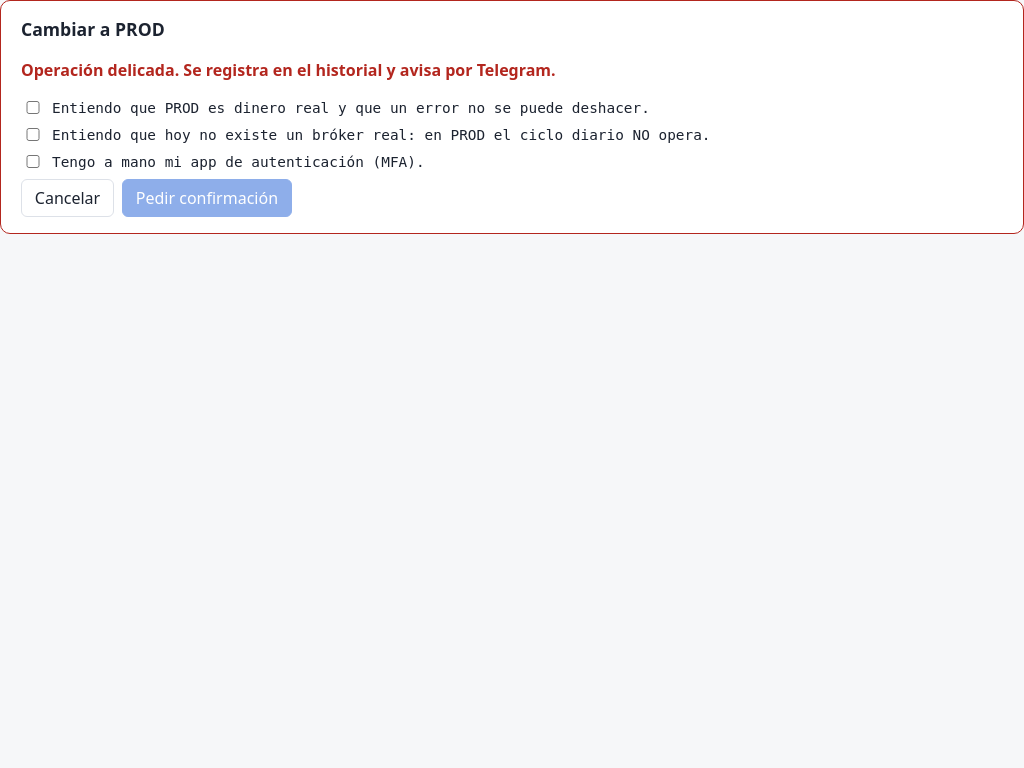
Test: ProdSwitchDialog › cannot ask for the challenge until every warning is ticked
The width and height of the screenshot is (1024, 768).
Check: the button "Pedir confirmación" is disabled, box [122,180,292,218]
Step 1. Click the 1st checkbox → (33, 107), box [25,101,41,114]
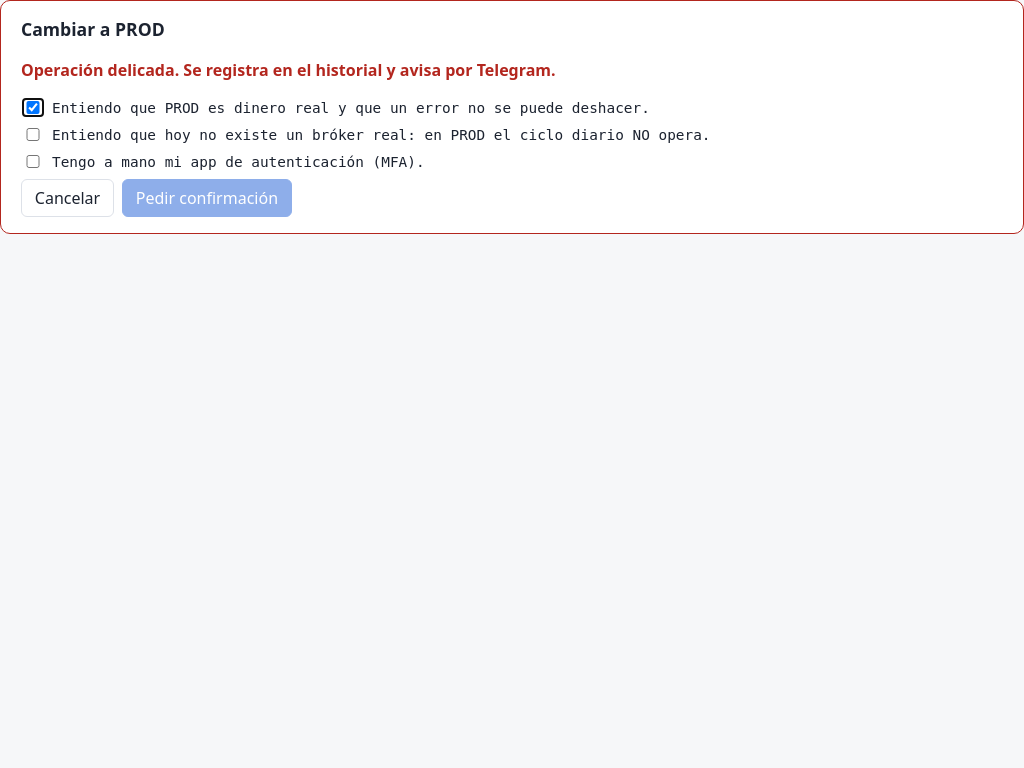
Step 2. Click the 2nd checkbox → (33, 134), box [25,128,41,141]
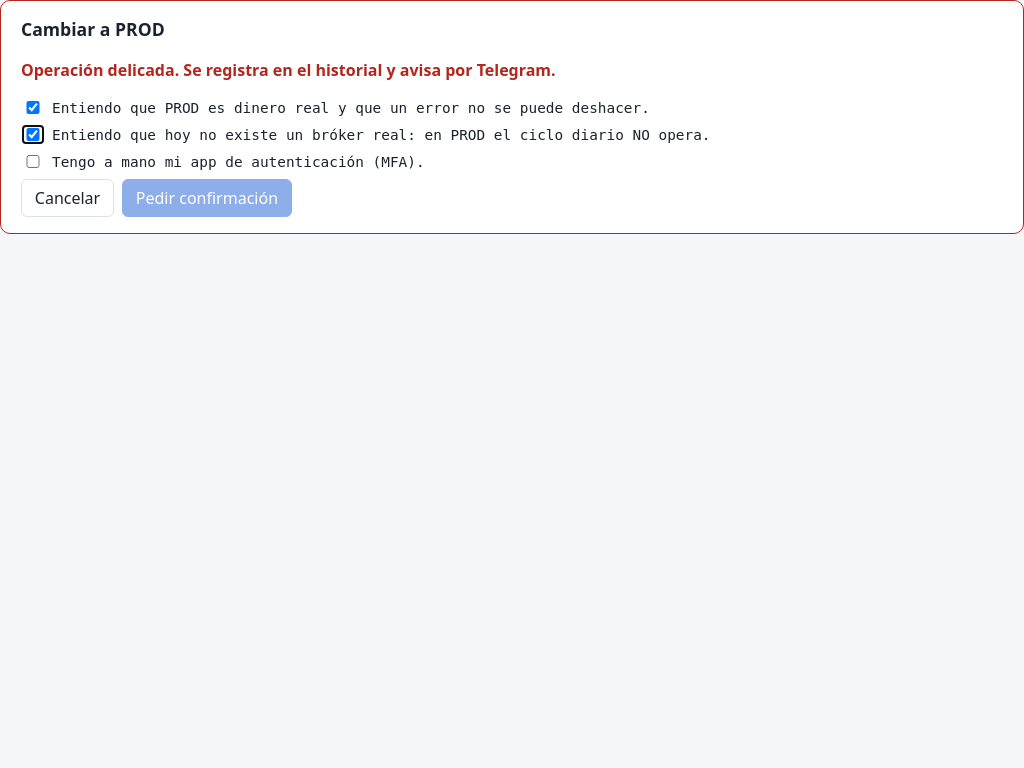
Check: the button "Pedir confirmación" is disabled, box [122,180,292,218]
Step 3. Click the checkbox labelled "Tengo a mano mi app de autenticación (MFA)." → (33, 162), box [25,155,41,168]
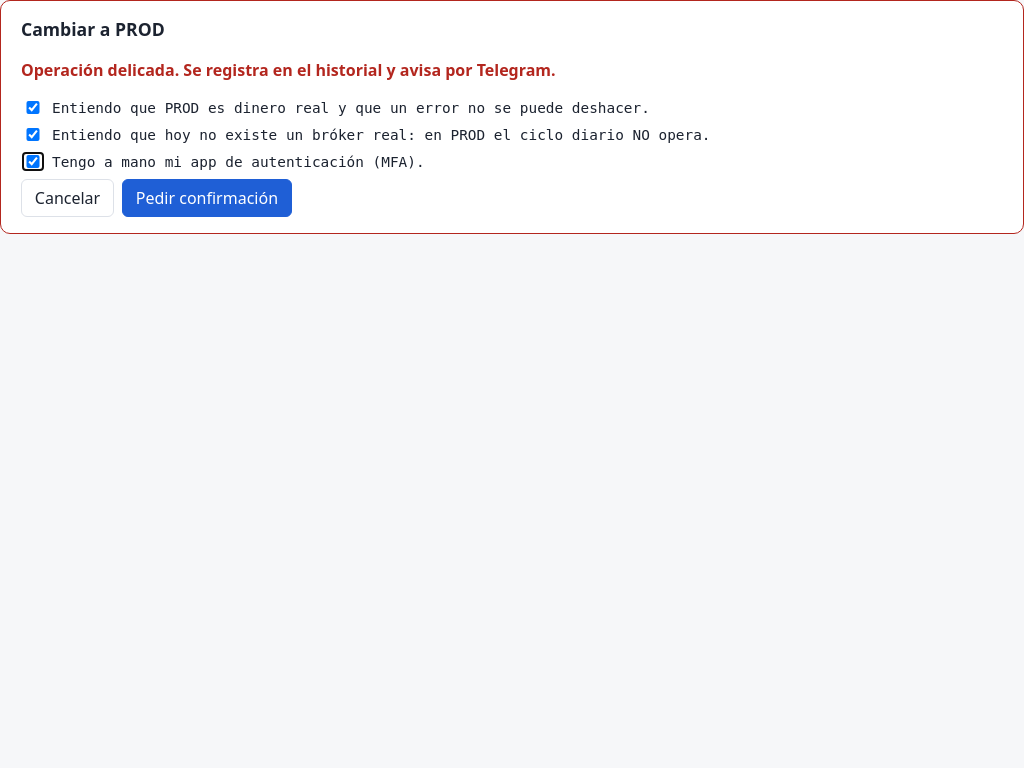
Check: the button "Pedir confirmación" is enabled, box [122,180,292,218]
